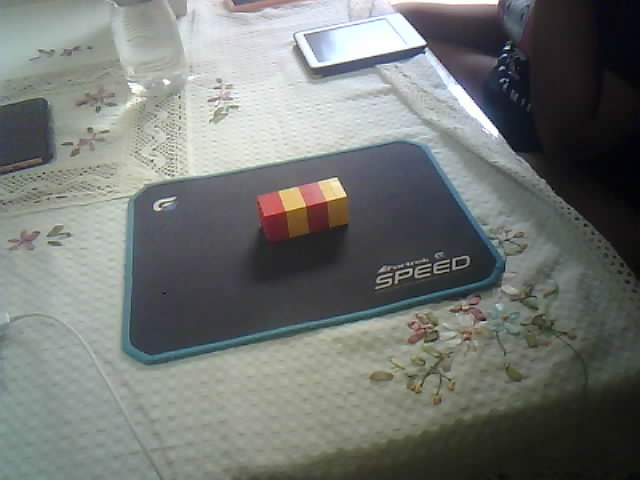lego: (255, 176, 351, 245)
